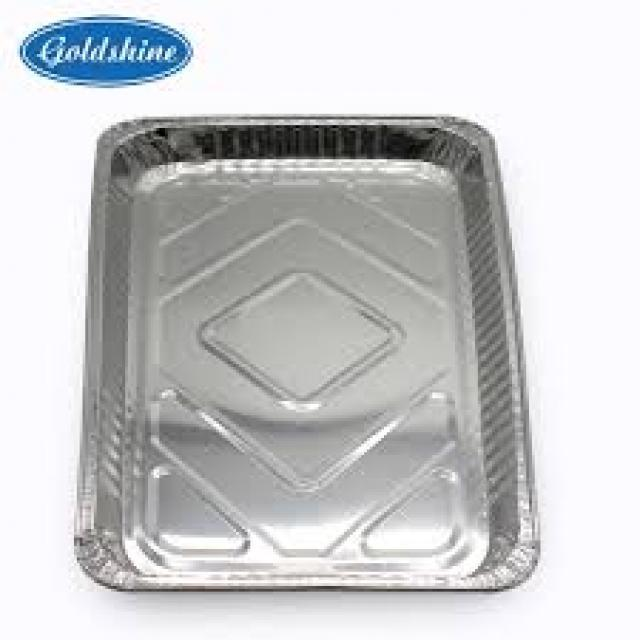recyclable: (70, 114, 548, 594)
